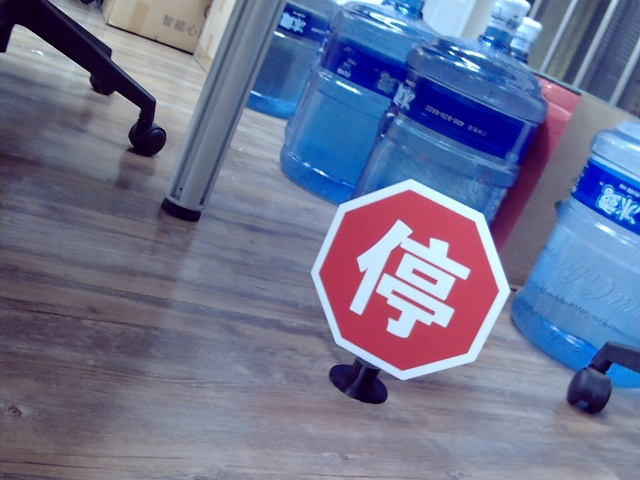stop: (353, 222, 459, 341)
